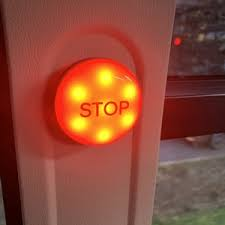bell: (50, 56, 147, 150)
